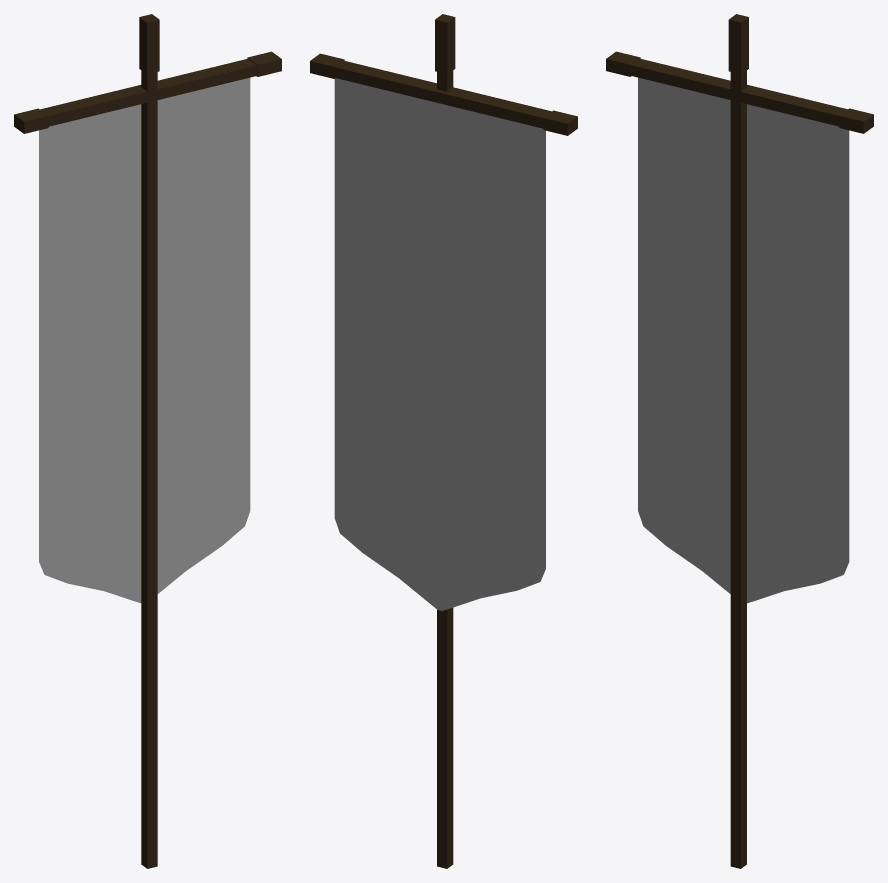
The model's file is flag.obj.
The picture shows the model from 3 angles, left to right: view 1: azimuth 30°, elevation 25°; view 2: azimuth 150°, elevation 25°; view 3: azimuth 330°, elevation 25°; orthographic projection.
Visible parts, largest first — view 1: Plane; view 2: Plane; view 3: Plane.
Part boxes in pixels (x1,y1,x2,y2): Plane: (14,14,281,868); Plane: (310,14,577,868); Plane: (606,14,873,868).
Bounding box in the file's own units: 2.45 × 7.69 × 0.1686.
